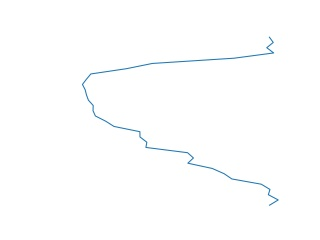mouthBar: (79, 37, 280, 205)
